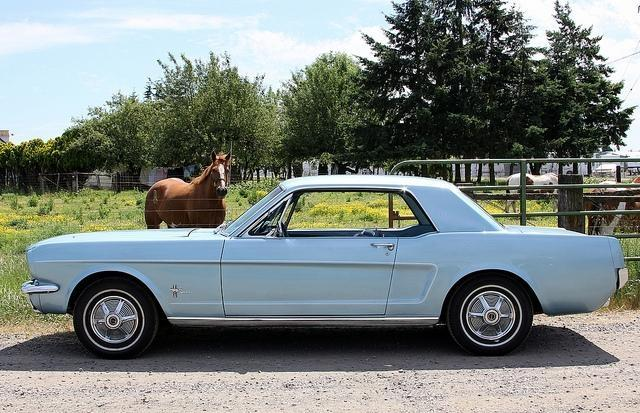car: (25, 172, 623, 360)
